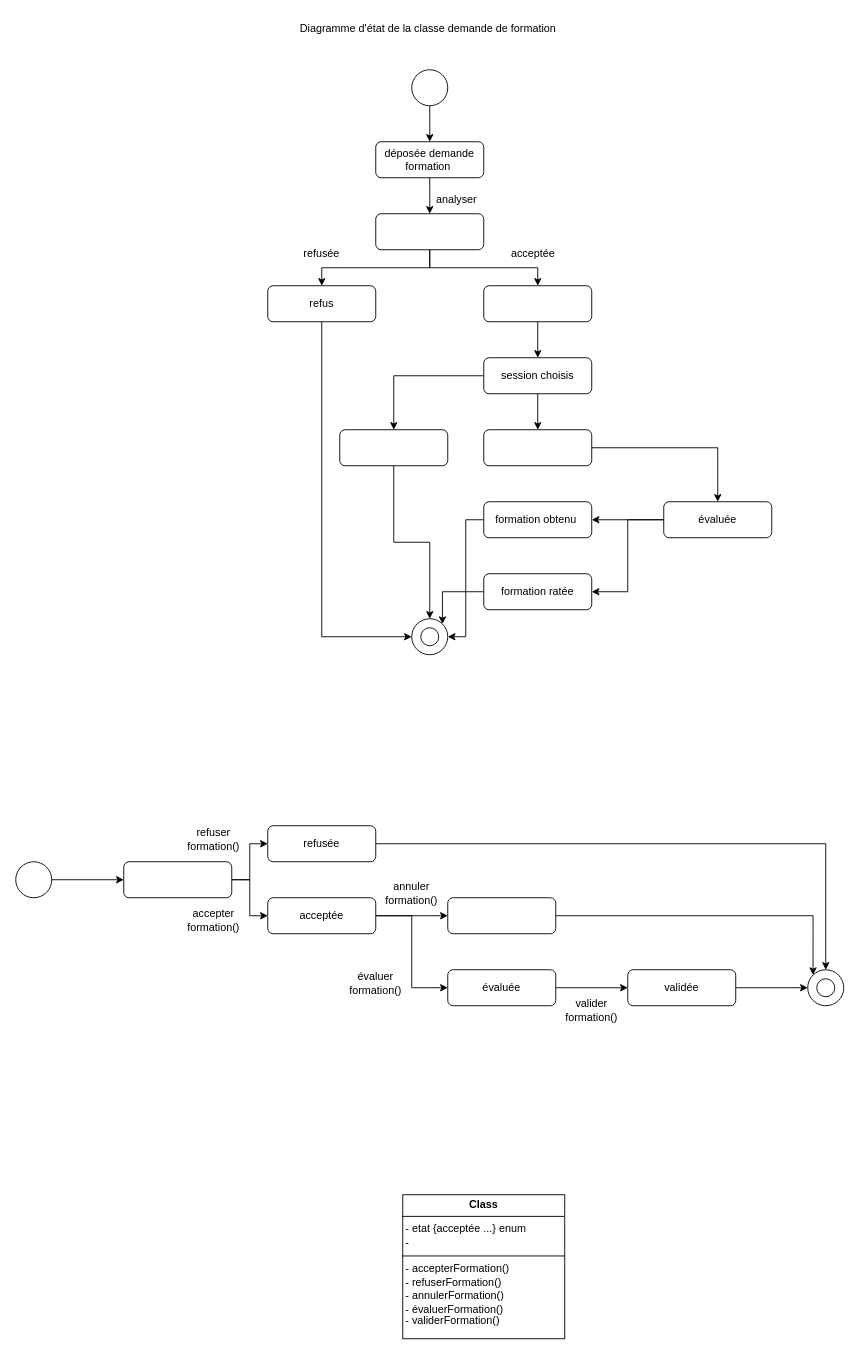
Some shapes in this 860 by 1355 pixel diagram are drawn without their labels. The centre of each missing label's shape, as x and y in pixels:
annulation: (x=393, y=447)
annulée: (x=501, y=915)
choix session: (x=537, y=303)
déposée: (x=177, y=879)
en revu: (x=429, y=231)
fin: (x=537, y=447)
